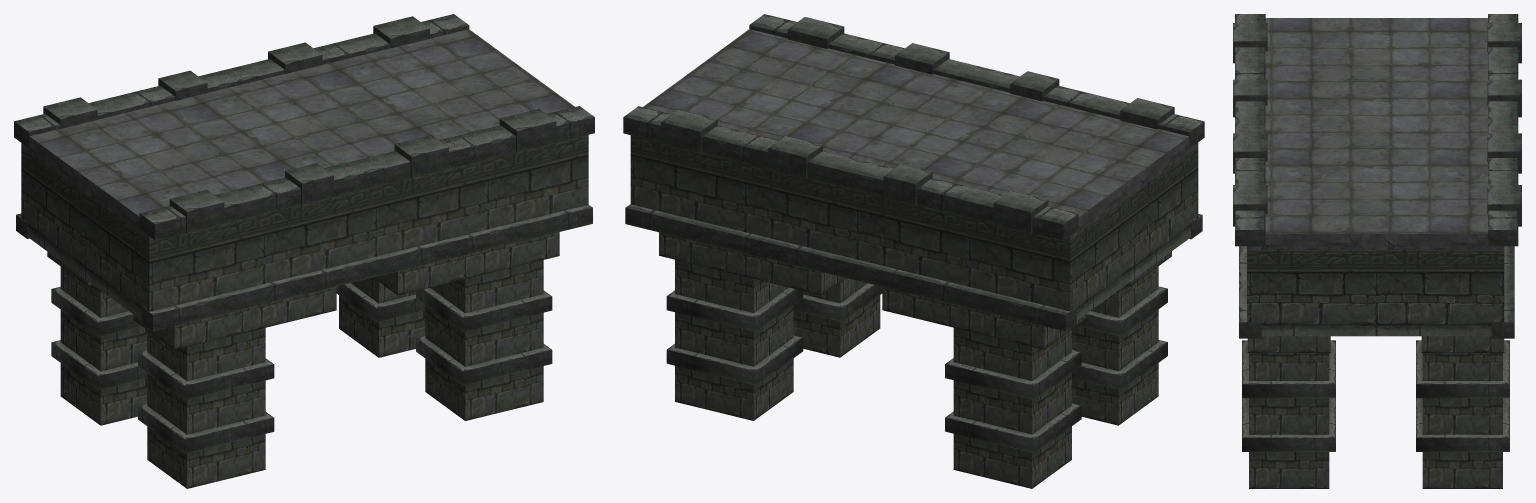
The model's file is environment_Building_qiaoliang_003_a.FBX.
3 renders of one model, left to right at view 1: azimuth 30°, elevation 25°; view 2: azimuth 150°, elevation 25°; view 3: azimuth 270°, elevation 25°, orthographic.
Visible parts, largest first — view 1: environment_Building_qiaoliang_003_b, environment_Building_qiaoliang_003_a; view 2: environment_Building_qiaoliang_003_b, environment_Building_qiaoliang_003_a; view 3: environment_Building_qiaoliang_003_b, environment_Building_qiaoliang_003_a.
Part boxes in pixels (left/top/right/bottom): environment_Building_qiaoliang_003_b: left=14, top=14, right=594, bottom=488; environment_Building_qiaoliang_003_a: left=30, top=29, right=574, bottom=216; environment_Building_qiaoliang_003_b: left=623, top=14, right=1204, bottom=488; environment_Building_qiaoliang_003_a: left=643, top=29, right=1188, bottom=216; environment_Building_qiaoliang_003_b: left=1233, top=14, right=1521, bottom=488; environment_Building_qiaoliang_003_a: left=1265, top=18, right=1487, bottom=233.
Bounding box in the file's own units: 425 × 263 × 241.
